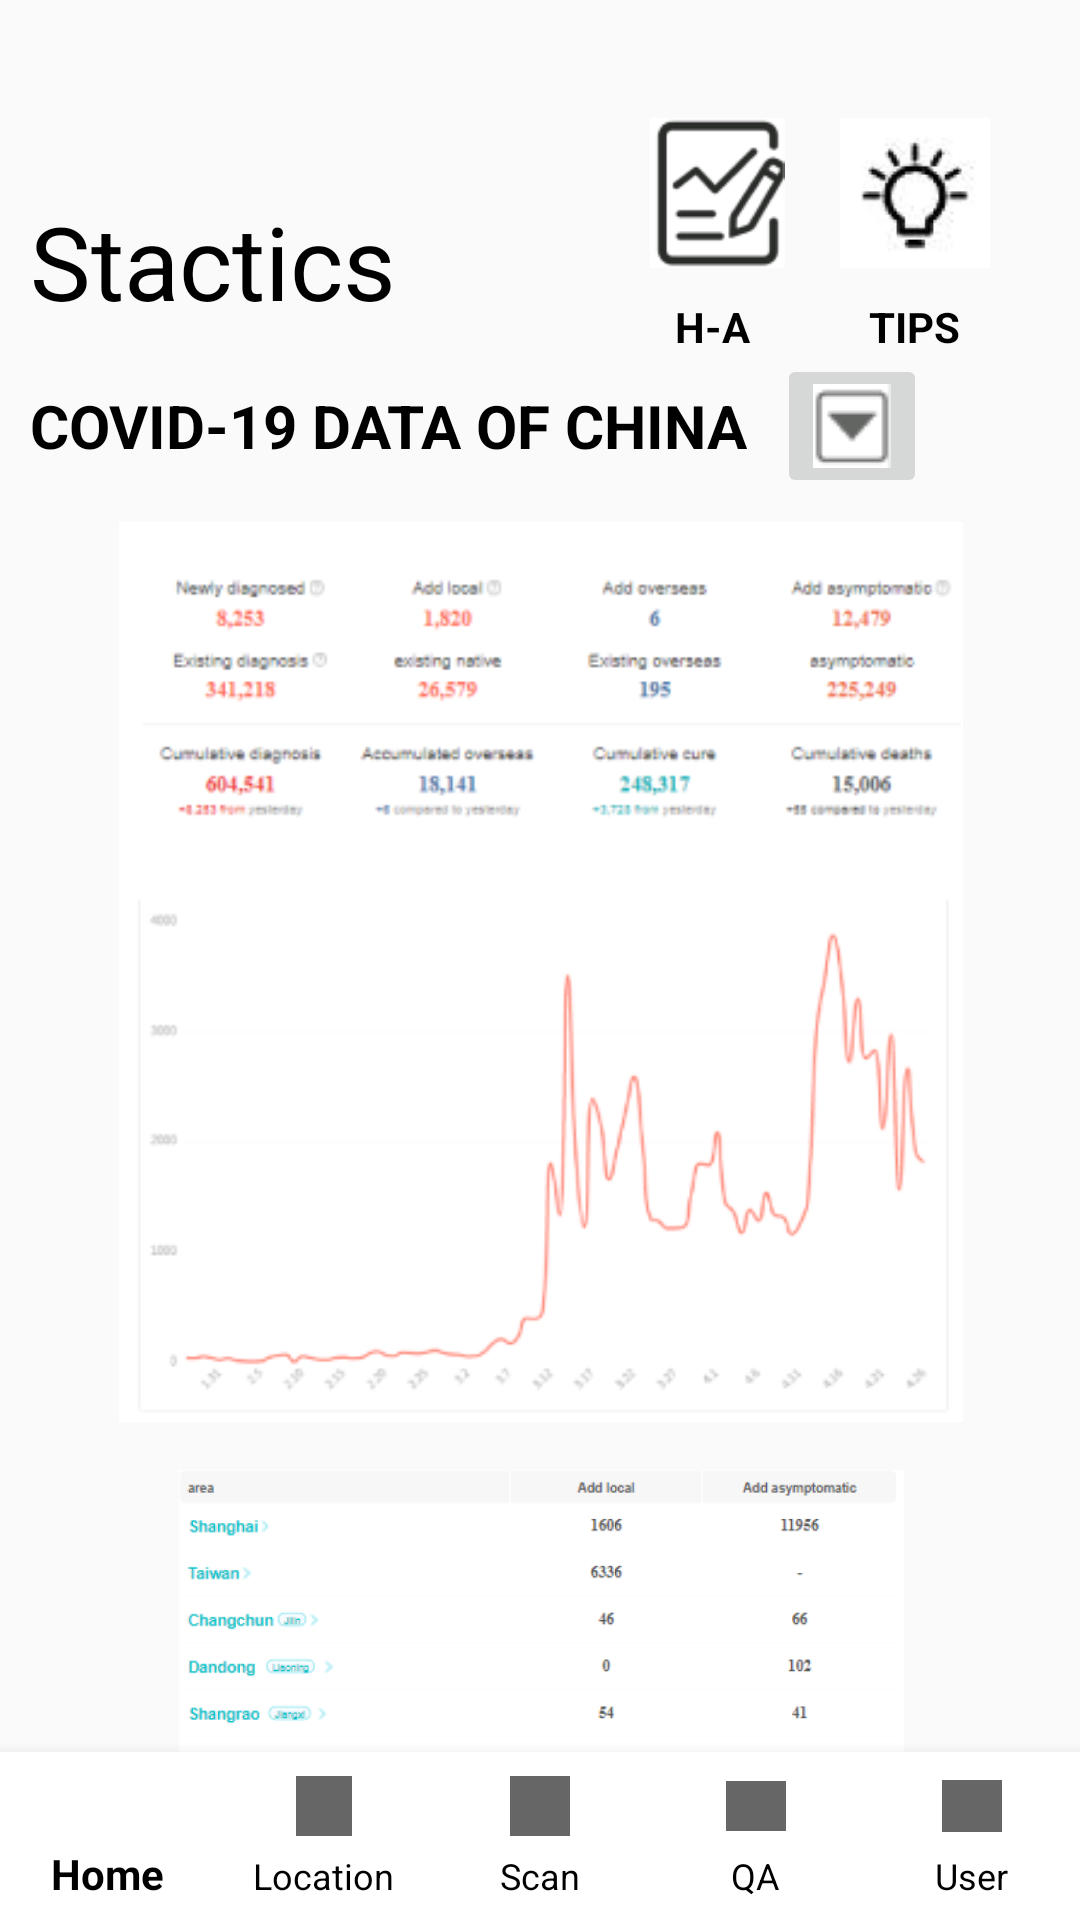

Icons on this 1080px×1920px Android screen, each with its box as {"left": x1, "top": y1, "right": x2, "bottom": y2}:
dropdownbox: {"left": 789, "top": 372, "right": 915, "bottom": 480}
